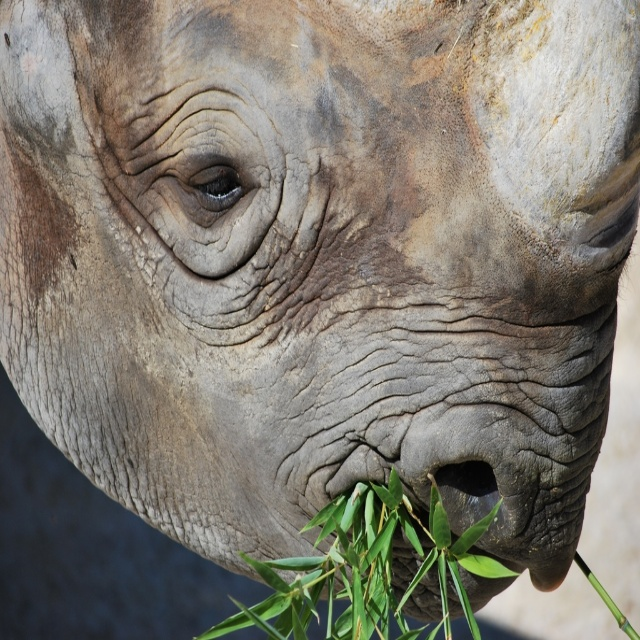Rhinoceros: (0, 0, 640, 623)
